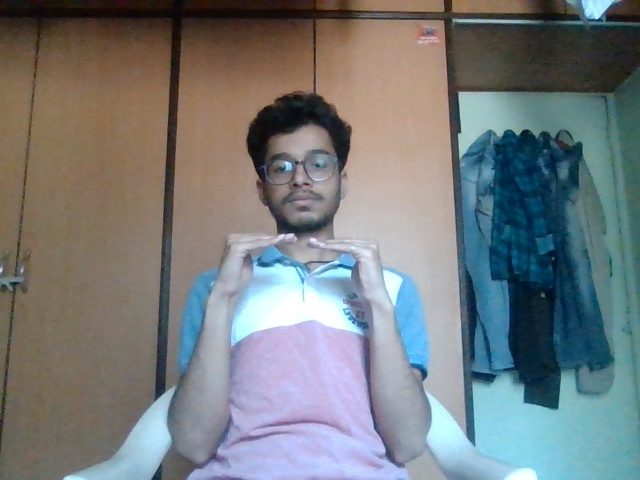afternoon: (197, 227, 402, 333)
